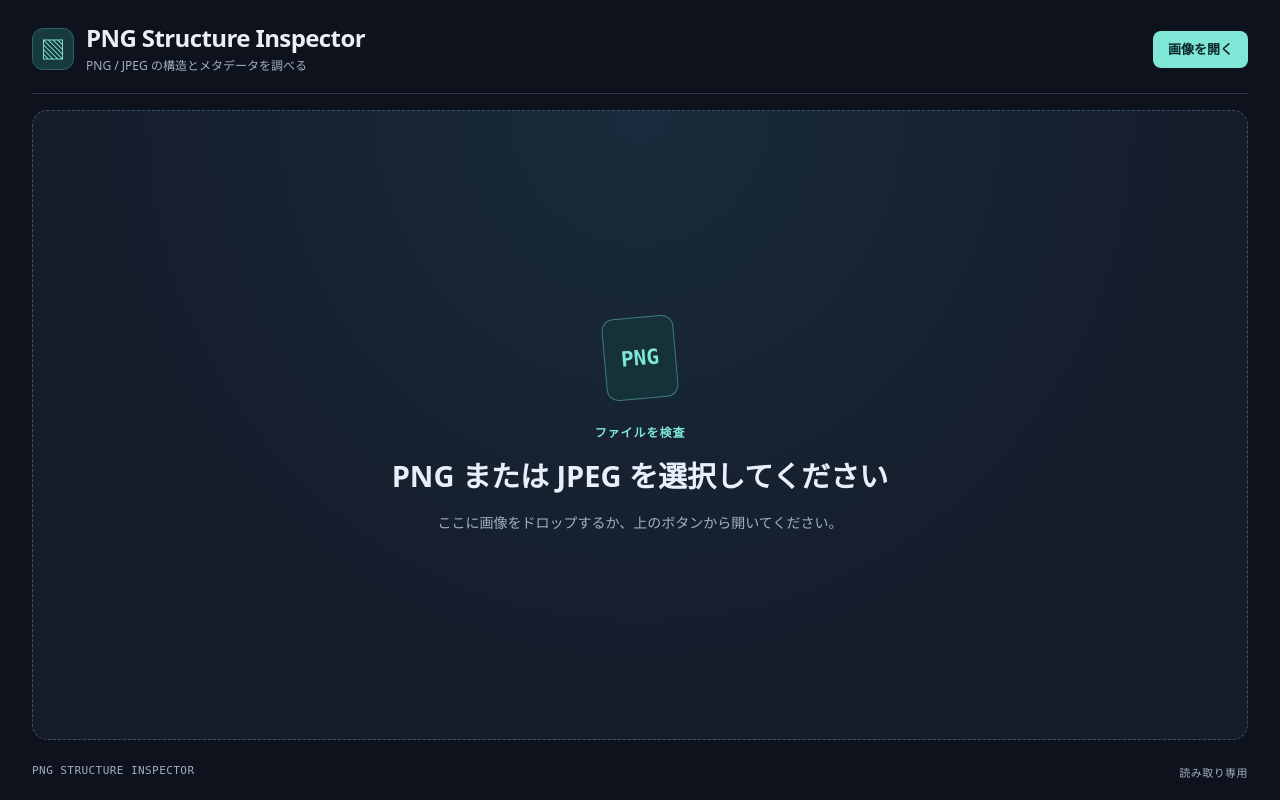
Scenario: pages through large chunk lists in file order
Click the button "画像を開く".
click(1200, 49)  # box top-left (1153, 31), bottom-right (1248, 68)
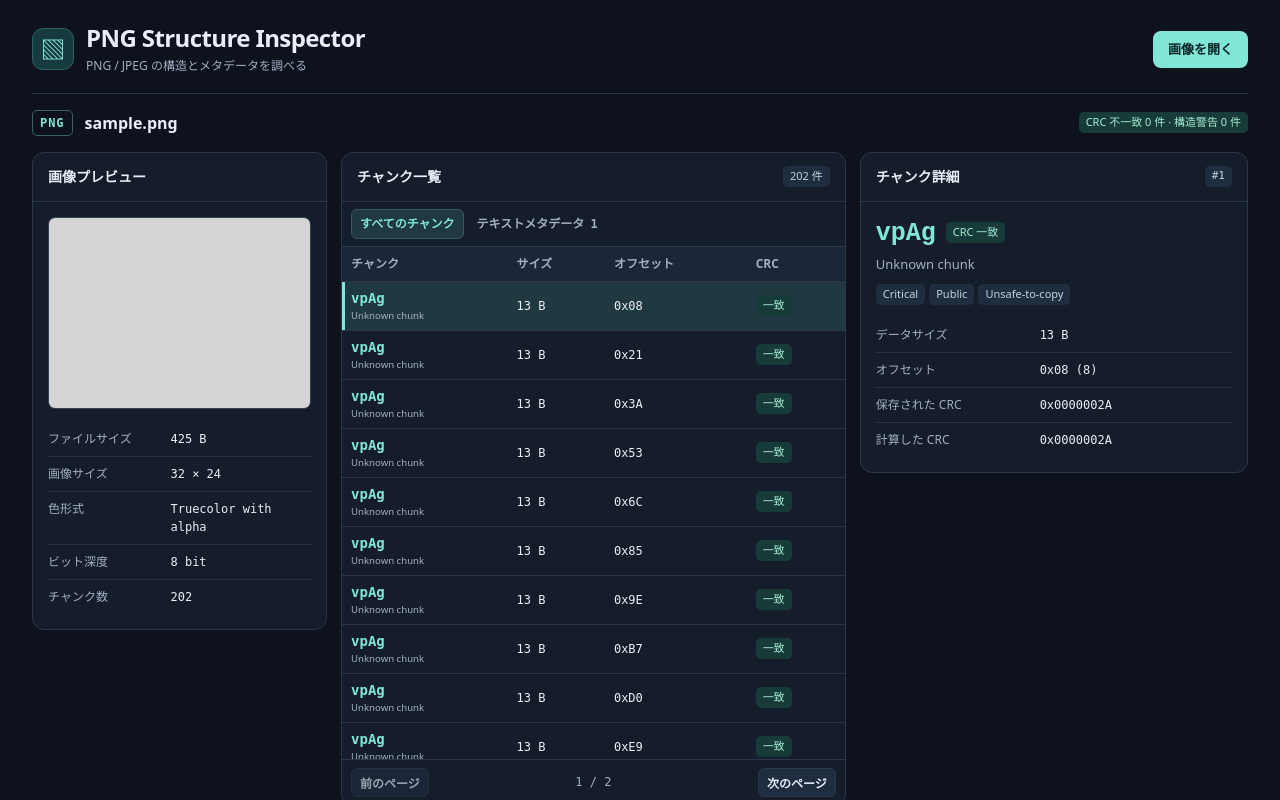
Click the button "次のページ".
click(797, 782)  # box top-left (758, 768), bottom-right (836, 797)
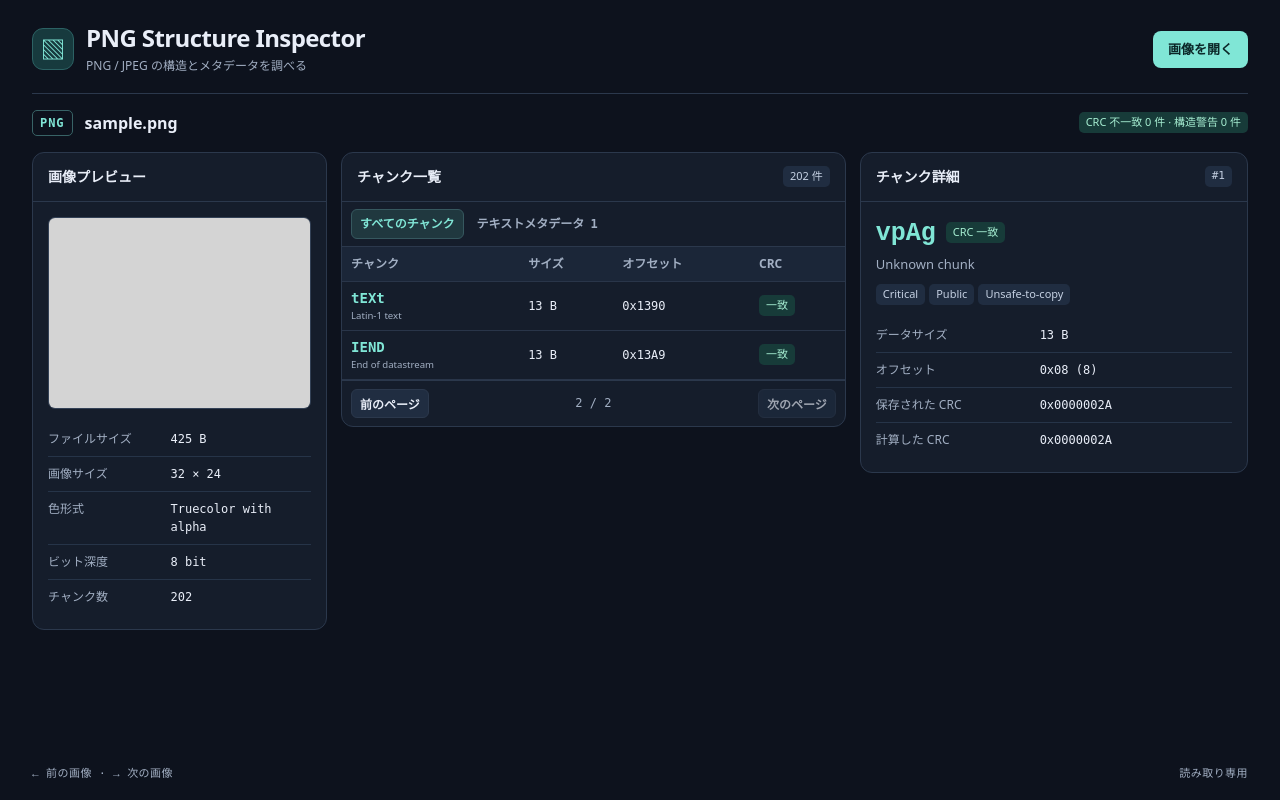
Click the button "tEXt".
click(368, 298)  # box top-left (351, 290), bottom-right (385, 306)
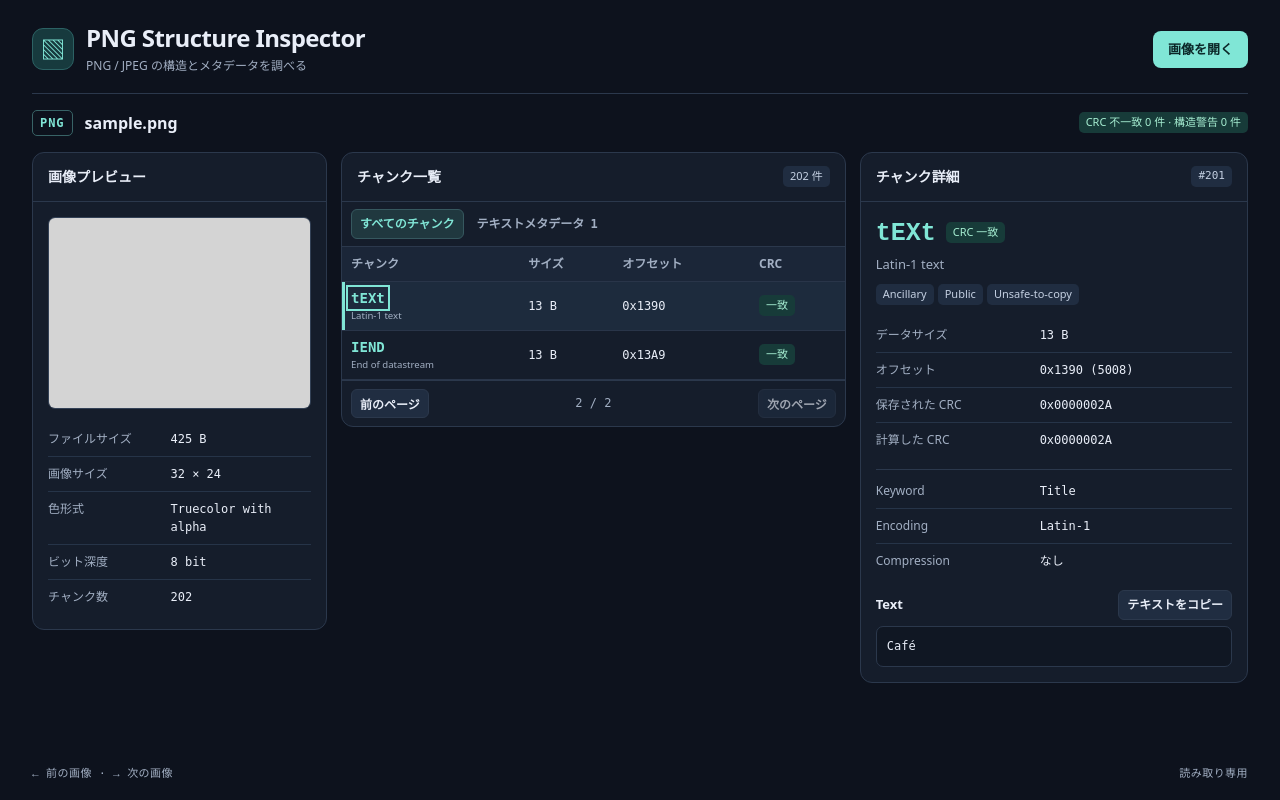
Now the heading "tEXt" is shown, box top-left (876, 217), bottom-right (936, 248)
Now the text named "テキスト本文" reads "Café", box top-left (887, 639), bottom-right (916, 653)
